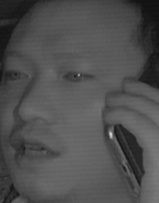eye: (60, 67, 97, 89), (3, 64, 29, 84)
mouth: (10, 131, 61, 168)
